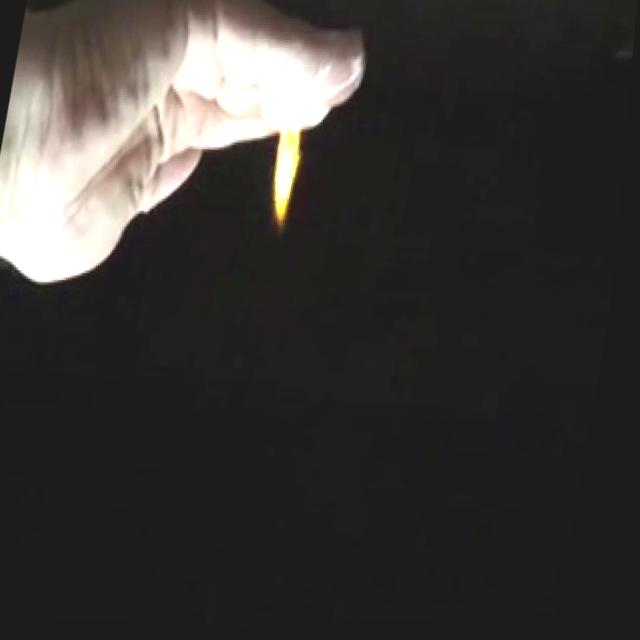Fire: (259, 105, 322, 245)
